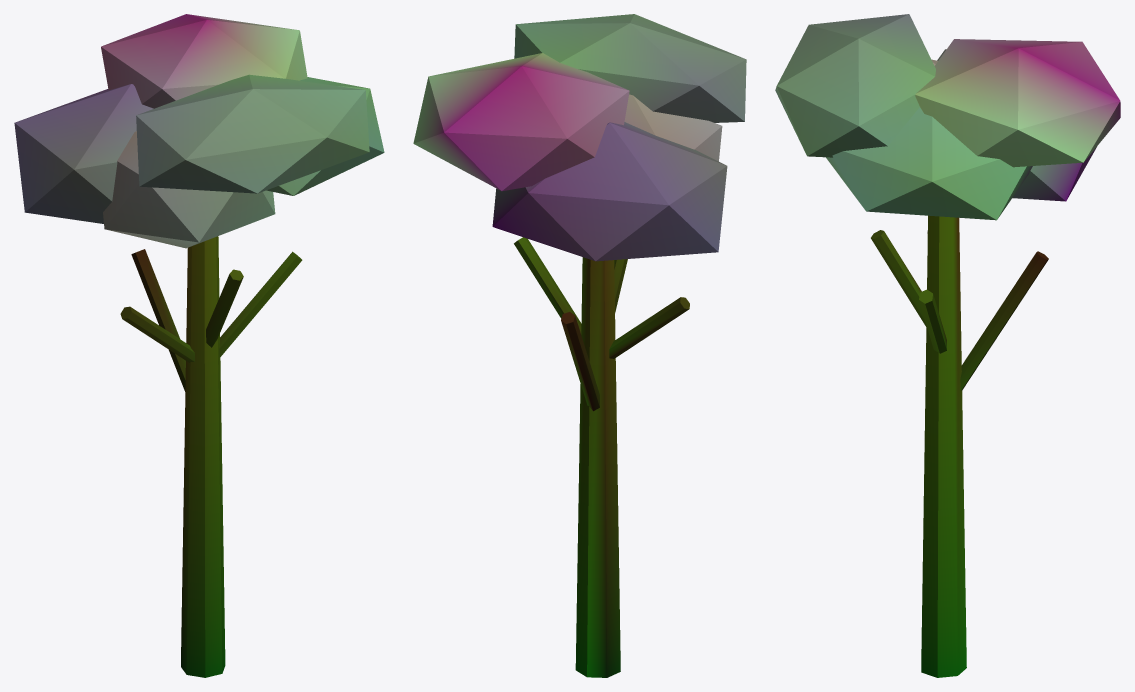
The model's file is broadleaf_01.glb.
3 views of the same model, side by side, from view 1: azimuth 30°, elevation 25°; view 2: azimuth 150°, elevation 25°; view 3: azimuth 270°, elevation 25° (orthographic). The views are drawn at different scales.
Parts seen in each view (by area): view 1: broadleaf_01; view 2: broadleaf_01; view 3: broadleaf_01.
Boxes of the visible parts, box(x1,y1,x2,y2) form: broadleaf_01: box(14, 14, 384, 677); broadleaf_01: box(413, 14, 746, 677); broadleaf_01: box(775, 14, 1120, 677).
Bounding box in the file's own units: 2.58 × 4.87 × 2.38.
